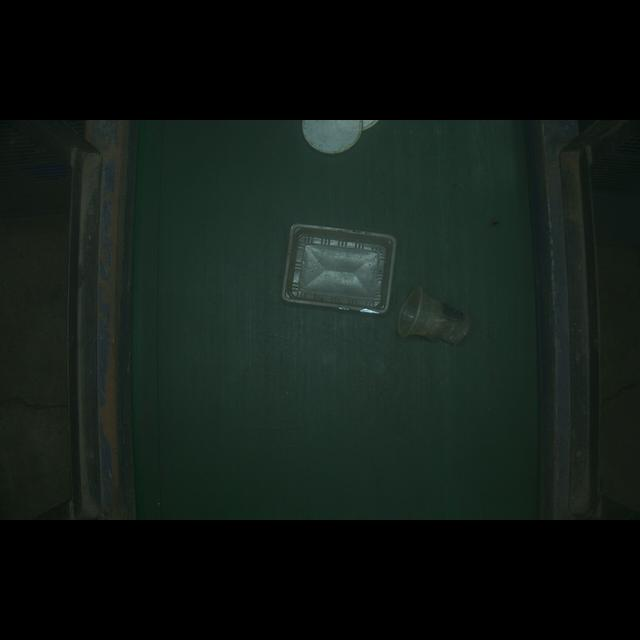mix rigid: (282, 216, 400, 332), (399, 284, 473, 348), (289, 120, 381, 153)
